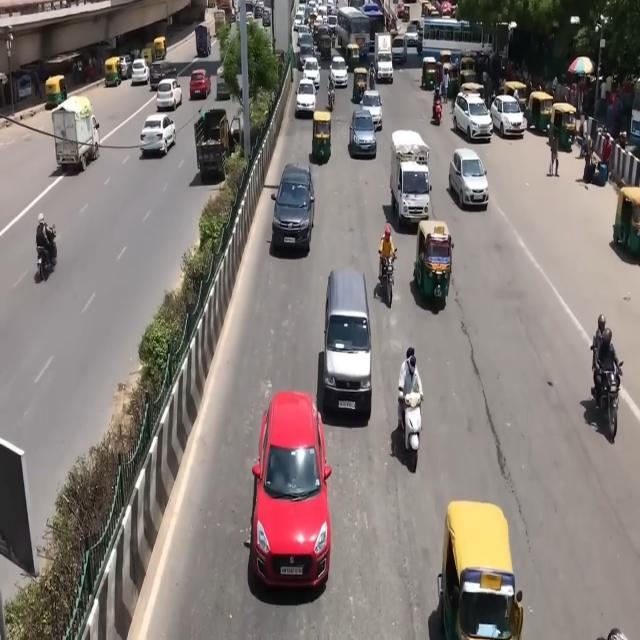auto: (439, 500, 522, 638), (415, 218, 454, 308), (612, 184, 640, 257), (550, 102, 578, 152), (527, 90, 554, 136), (312, 110, 332, 161), (45, 75, 67, 110), (352, 67, 369, 104), (421, 56, 439, 90), (104, 56, 122, 88), (346, 41, 361, 73), (154, 36, 166, 62), (142, 42, 155, 66)
bike-auto: (590, 346, 624, 442), (398, 348, 423, 433), (35, 212, 55, 272), (592, 314, 607, 385), (378, 225, 396, 283), (328, 72, 336, 106)
